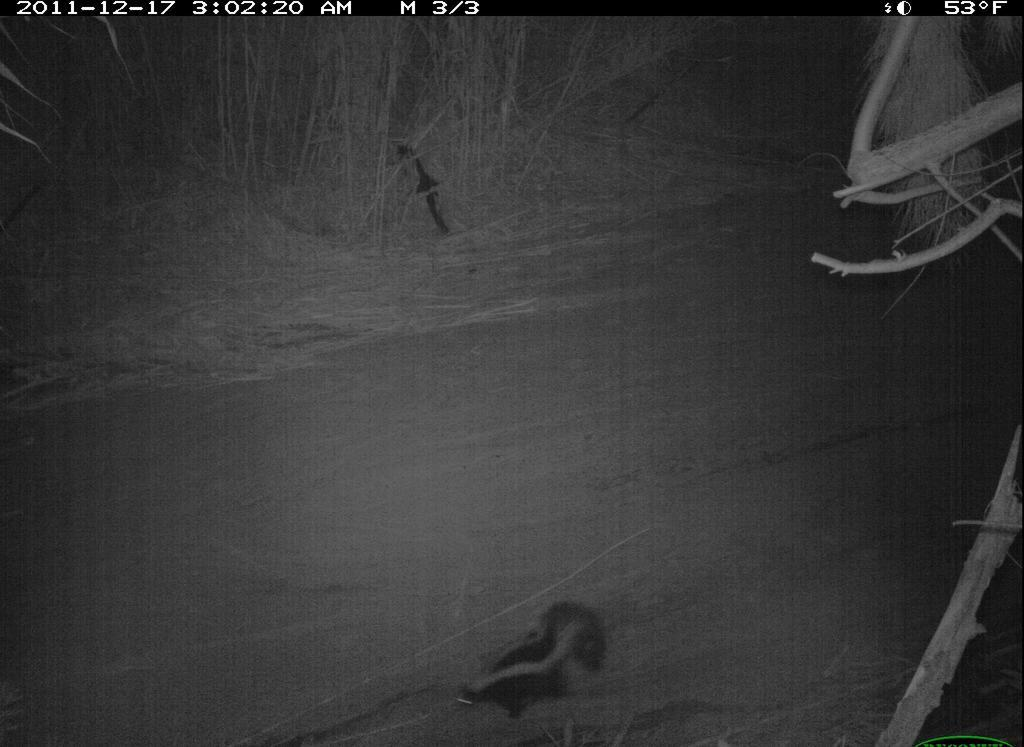skunk: (452, 597, 632, 730)
